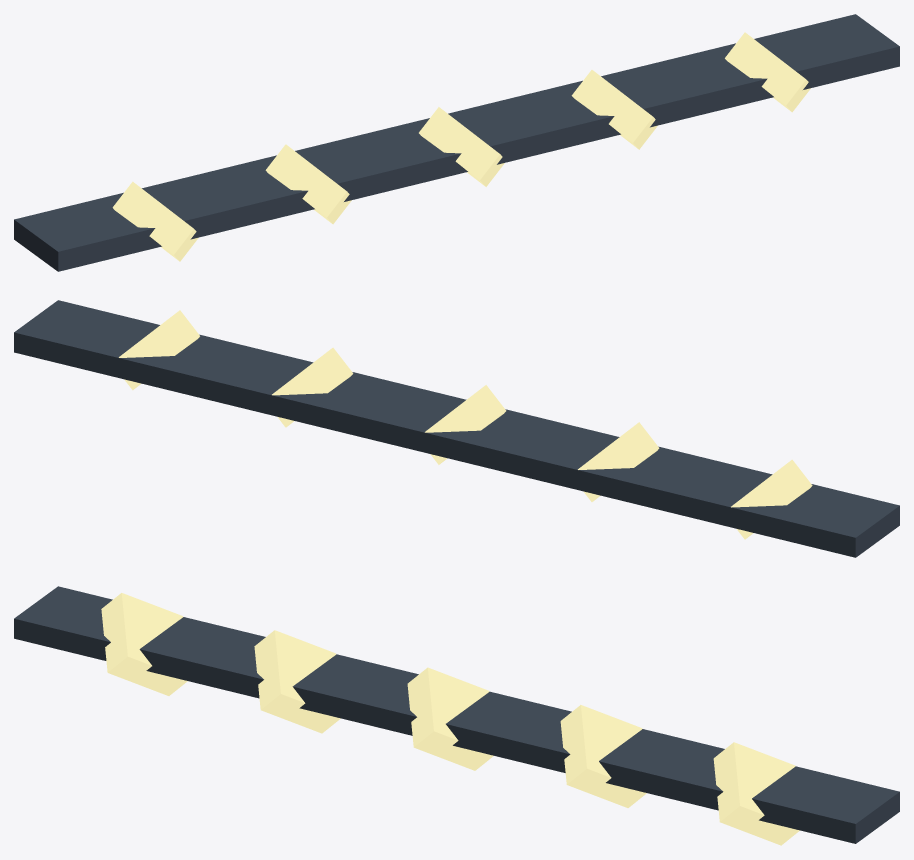
File: SM_UI_ChargeBar.glb
3 renders of one model, top to bottom at view 1: azimuth 30°, elevation 25°; view 2: azimuth 150°, elevation 25°; view 3: azimuth 330°, elevation 25°, orthographic.
Visible parts, largest first — view 1: SM_UI_ChargeBar_Frame, UI_Charge_Cell_2, UI_Charge_Cell_5, UI_Charge_Cell_3, UI_Charge_Cell_1, UI_Charge_Cell_4; view 2: SM_UI_ChargeBar_Frame, UI_Charge_Cell_4, UI_Charge_Cell_1, UI_Charge_Cell_3, UI_Charge_Cell_5, UI_Charge_Cell_2; view 3: SM_UI_ChargeBar_Frame, UI_Charge_Cell_3, UI_Charge_Cell_2, UI_Charge_Cell_5, UI_Charge_Cell_1, UI_Charge_Cell_4.
Boxes of the visible parts, x1=… form: SM_UI_ChargeBar_Frame: x1=14, y1=14, x2=899, y2=271; UI_Charge_Cell_2: x1=265, y1=144, x2=351, y2=224; UI_Charge_Cell_5: x1=725, y1=32, x2=810, y2=112; UI_Charge_Cell_3: x1=419, y1=107, x2=504, y2=186; UI_Charge_Cell_1: x1=112, y1=181, x2=198, y2=261; UI_Charge_Cell_4: x1=571, y1=70, x2=657, y2=149; SM_UI_ChargeBar_Frame: x1=14, y1=300, x2=899, y2=557; UI_Charge_Cell_4: x1=272, y1=347, x2=353, y2=427; UI_Charge_Cell_1: x1=731, y1=459, x2=812, y2=539; UI_Charge_Cell_3: x1=425, y1=385, x2=506, y2=464; UI_Charge_Cell_5: x1=119, y1=310, x2=199, y2=390; UI_Charge_Cell_2: x1=578, y1=422, x2=659, y2=501; SM_UI_ChargeBar_Frame: x1=14, y1=586, x2=899, y2=843; UI_Charge_Cell_3: x1=407, y1=667, x2=493, y2=770; UI_Charge_Cell_2: x1=254, y1=630, x2=340, y2=733; UI_Charge_Cell_5: x1=713, y1=742, x2=799, y2=845; UI_Charge_Cell_1: x1=101, y1=593, x2=187, y2=695; UI_Charge_Cell_4: x1=560, y1=705, x2=646, y2=807.
Bounding box in the file's own units: 4.4 × 0.4596 × 0.5.
